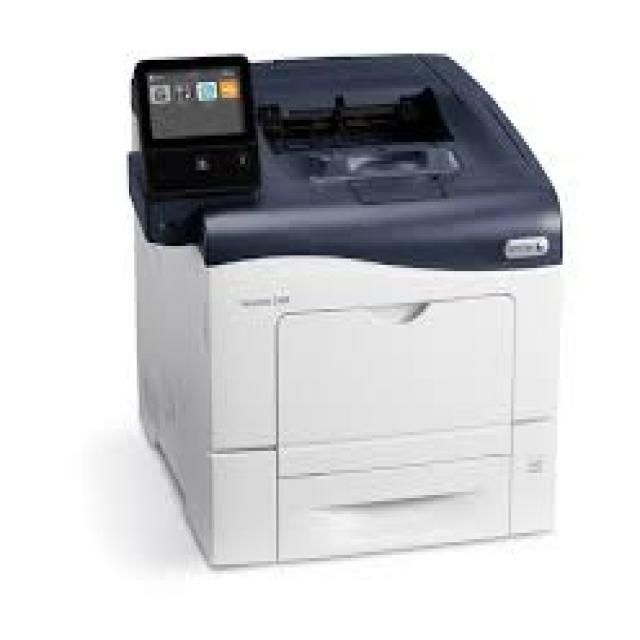printer: (104, 31, 600, 590)
